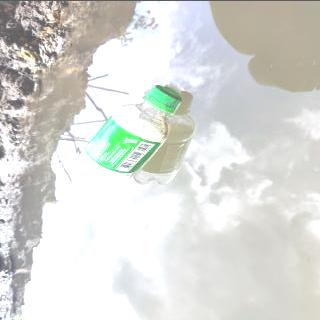bottle: (72, 83, 185, 188)
